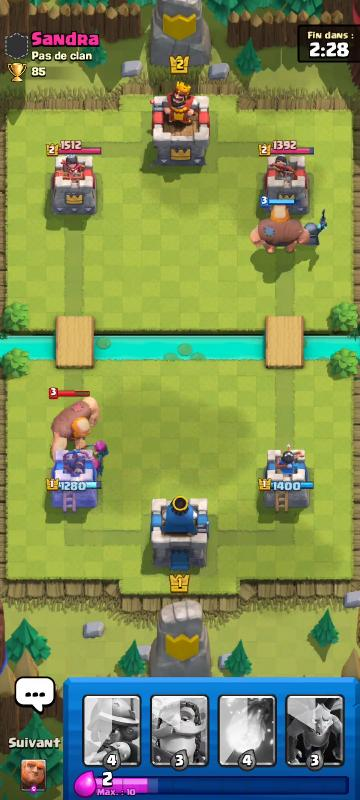archere: (93, 438, 110, 463), (88, 451, 103, 476)
geant: (50, 395, 102, 458), (251, 203, 307, 259)
mini_PEKKA: (302, 208, 328, 249)
